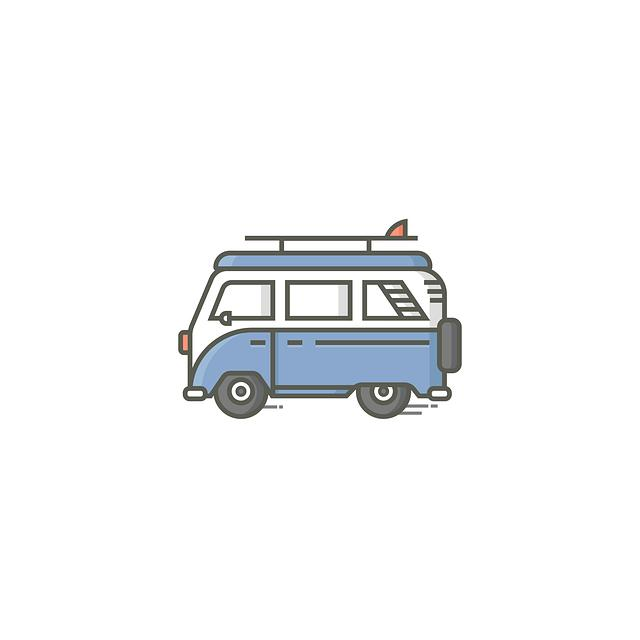Non_Gorille: (45, 16, 598, 634)
